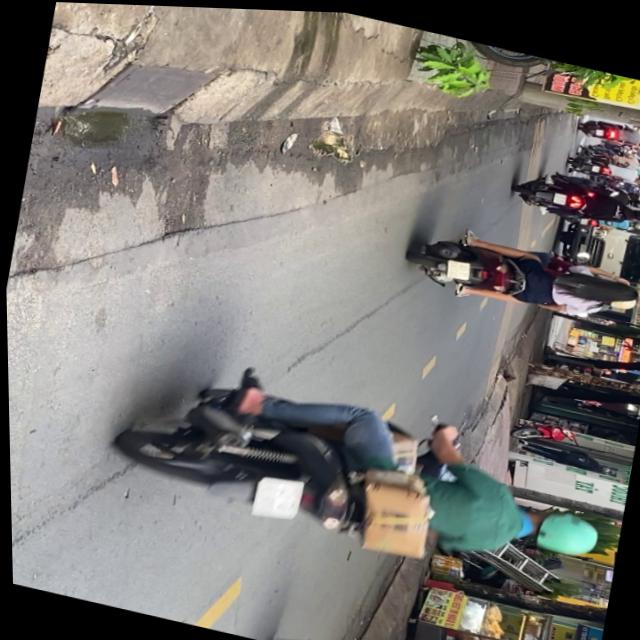helmet: (512, 496, 602, 559)
licenseplate: (103, 344, 616, 601), (401, 214, 640, 335), (243, 619, 553, 640)
motorcyclist: (586, 267, 639, 303)
nohelmet: (251, 471, 302, 522), (445, 256, 471, 279)
